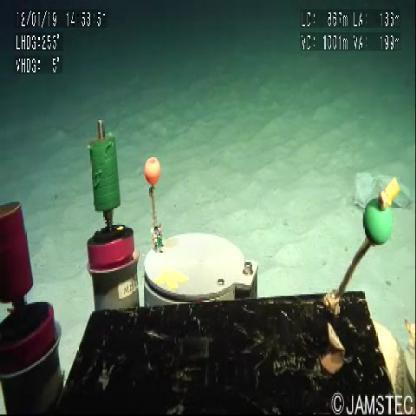Rác: (356, 173, 414, 211)
